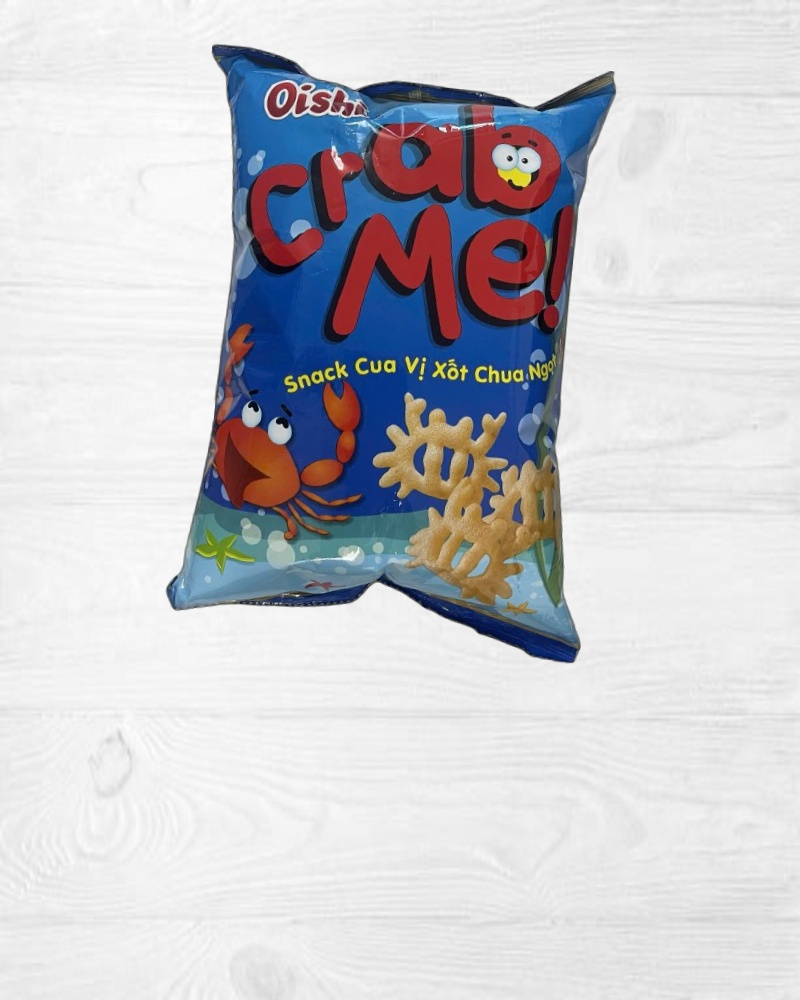Snack cua: (163, 37, 630, 658)
